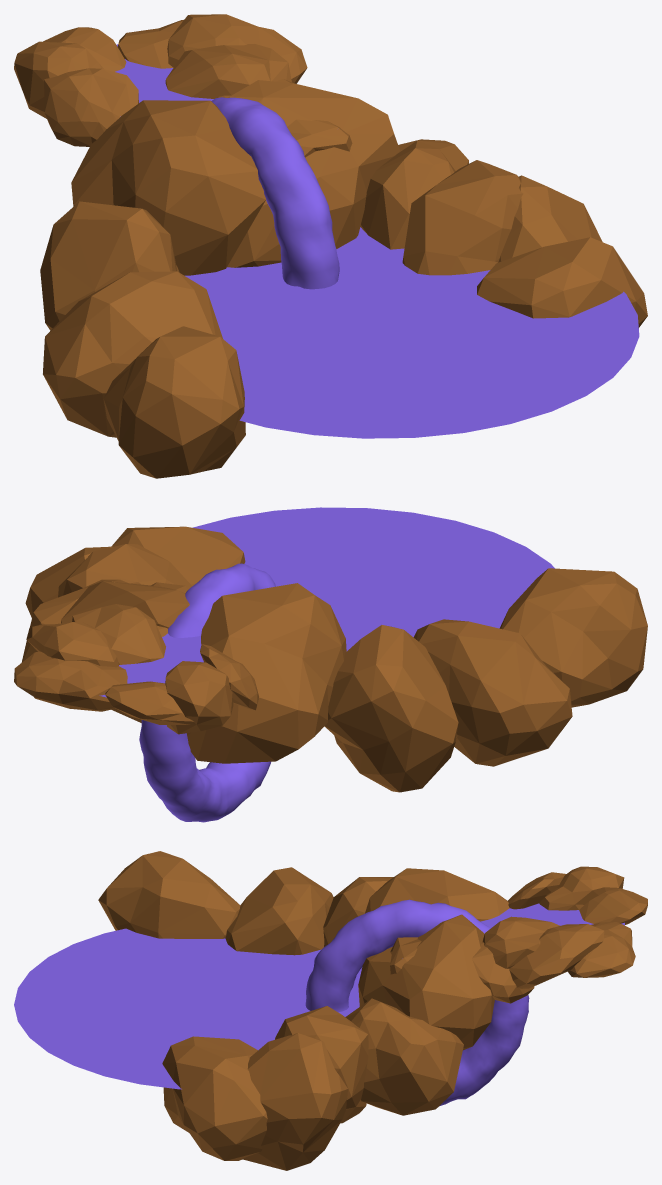
The model's file is toxic waterfall.fbx.
3 views of the same model, one above another, from view 1: azimuth 30°, elevation 25°; view 2: azimuth 150°, elevation 25°; view 3: azimuth 270°, elevation 25° (orthographic). The views are drawn at different scales.
Visible parts, largest first — view 1: Circle, Icosphere.006, Icosphere.003, Icosphere.002, Icosphere, Torus, Icosphere.007, Icosphere.004, Icosphere.005, Icosphere.001, Icosphere.010, Icosphere.012 (+7 smaller); view 2: Circle, Icosphere.006, Icosphere.007, Icosphere.002, Icosphere.003, Torus, Icosphere.013, Icosphere.005, Icosphere.009, Icosphere.004, Icosphere.012, Icosphere (+6 smaller); view 3: Circle, Torus, Icosphere, Icosphere.008, Icosphere.005, Icosphere.001, Icosphere.003, Icosphere.002, Icosphere.004, Icosphere.006, Icosphere.014, Icosphere.012 (+8 smaller).
Boxes of the visible parts, left/top/right/bottom form: Circle: left=185, top=227, right=639, bottom=438; Icosphere.006: left=71, top=100, right=266, bottom=275; Icosphere.003: left=103, top=326, right=245, bottom=478; Icosphere.002: left=43, top=271, right=222, bottom=437; Icosphere: left=227, top=80, right=399, bottom=267; Torus: left=211, top=97, right=339, bottom=289; Icosphere.007: left=40, top=201, right=179, bottom=330; Icosphere.004: left=402, top=160, right=523, bottom=275; Icosphere.005: left=477, top=237, right=647, bottom=327; Icosphere.001: left=360, top=139, right=468, bottom=249; Icosphere.010: left=44, top=68, right=138, bottom=146; Icosphere.012: left=165, top=44, right=291, bottom=98; Circle: left=193, top=507, right=554, bottom=651; Icosphere.006: left=187, top=583, right=346, bottom=763; Icosphere.007: left=324, top=625, right=458, bottom=792; Icosphere.002: left=413, top=619, right=572, bottom=766; Icosphere.003: left=499, top=568, right=647, bottom=707; Torus: left=139, top=563, right=275, bottom=822; Icosphere.013: left=14, top=651, right=127, bottom=711; Icosphere.005: left=111, top=526, right=245, bottom=585; Icosphere.009: left=165, top=661, right=233, bottom=734; Icosphere.004: left=58, top=544, right=192, bottom=597; Icosphere.012: left=72, top=604, right=165, bottom=664; Icosphere: left=61, top=581, right=189, bottom=722; Circle: left=14, top=928, right=362, bottom=1089; Torus: left=305, top=899, right=529, bottom=1106; Icosphere: left=358, top=914, right=494, bottom=1050; Icosphere.008: left=242, top=1033, right=347, bottom=1170; Icosphere.005: left=162, top=1036, right=267, bottom=1160; Icosphere.001: left=345, top=998, right=463, bottom=1115; Icosphere.003: left=98, top=851, right=240, bottom=938; Icosphere.002: left=225, top=867, right=333, bottom=955; Icosphere.004: left=275, top=1006, right=368, bottom=1123; Icosphere.006: left=365, top=868, right=509, bottom=921; Icosphere.014: left=509, top=924, right=604, bottom=988; Icosphere.012: left=482, top=916, right=559, bottom=968.
Bounding box in the file's own units: 489 × 216 × 606.
